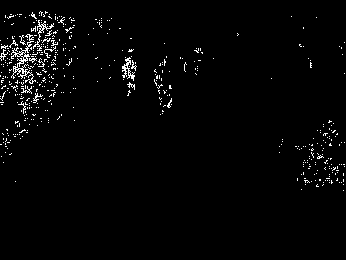person: (151, 53, 173, 117)
